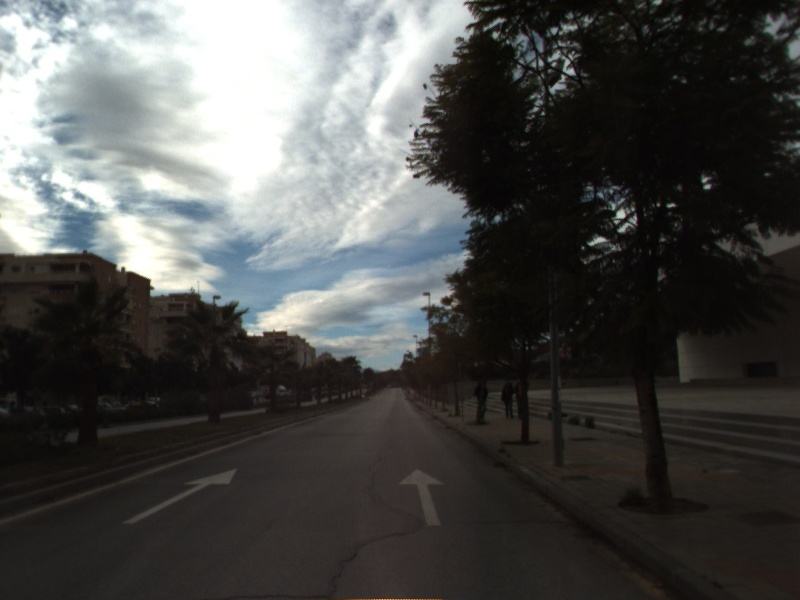STRAIGHT: (120, 466, 239, 526), (397, 466, 447, 528)
